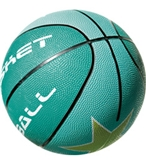basketball: (1, 10, 146, 155)
